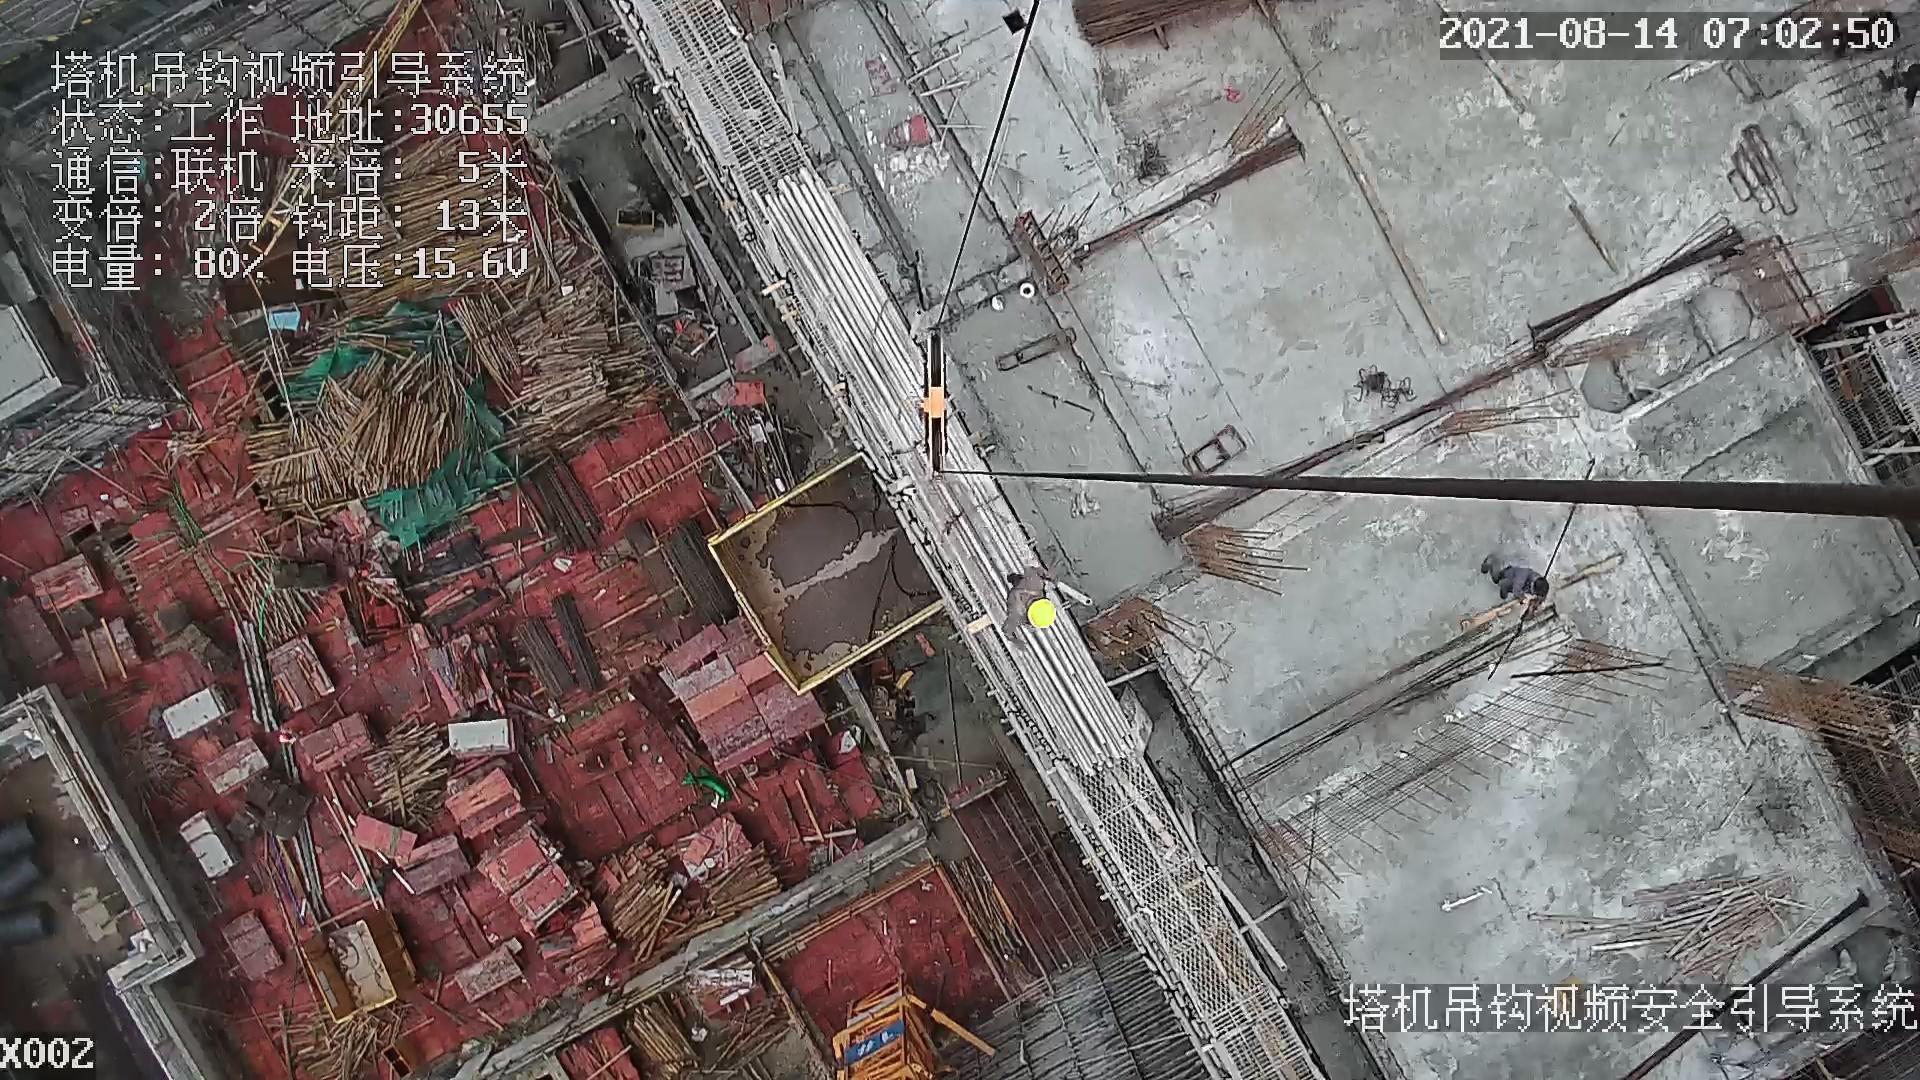helmet: (1026, 597, 1059, 631)
hook: (918, 333, 973, 481)
person: (1000, 565, 1065, 645), (1485, 549, 1554, 603)
slogan: (835, 1019, 907, 1061)
